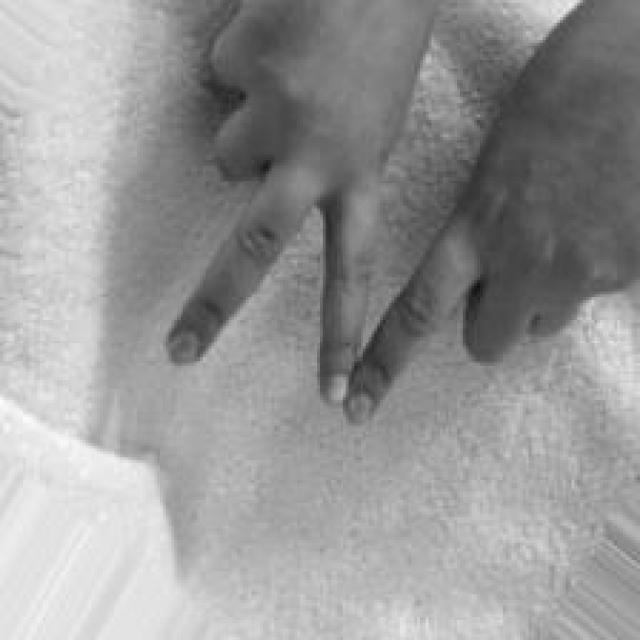N: (153, 4, 636, 434)
